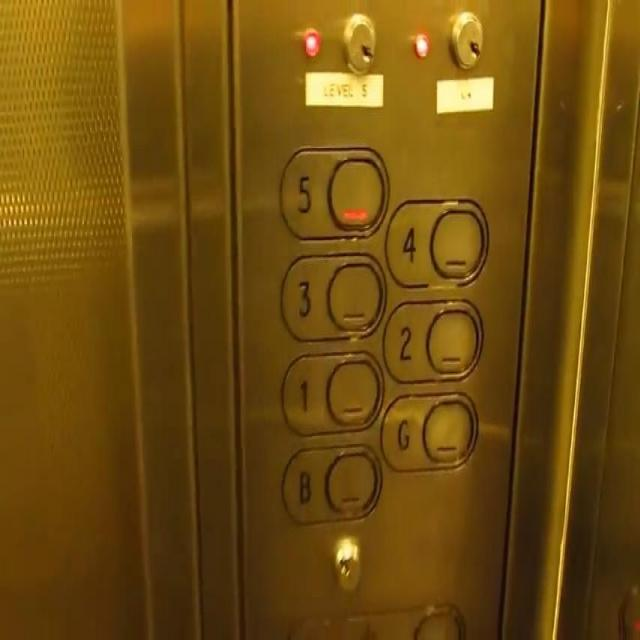1: (280, 347, 387, 436)
2: (379, 294, 485, 386)
3: (280, 245, 387, 344)
4: (382, 192, 490, 289)
5: (278, 140, 390, 241)
B: (279, 439, 383, 529)
G: (378, 388, 480, 473)
keyhole: (340, 9, 376, 78), (449, 10, 483, 70)
